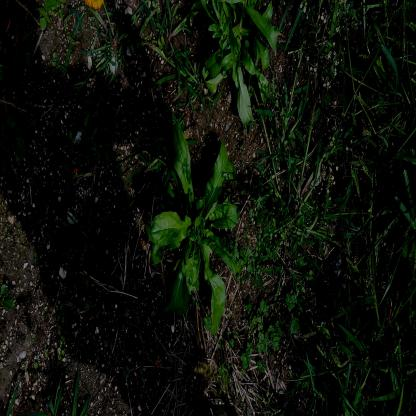marigold: (85, 0, 103, 8)
